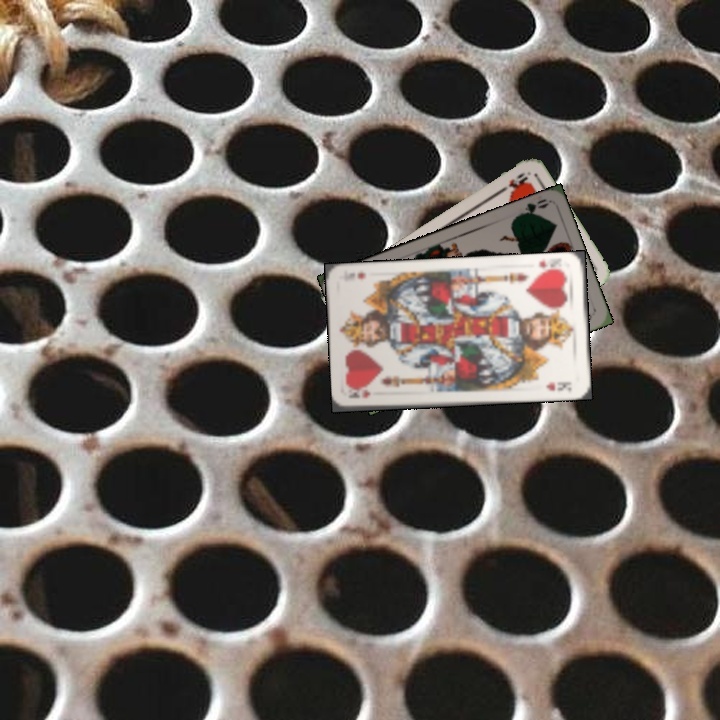GO: (512, 199, 551, 219)
HK: (535, 257, 567, 276), (346, 386, 373, 401)
HO: (494, 169, 531, 197)
